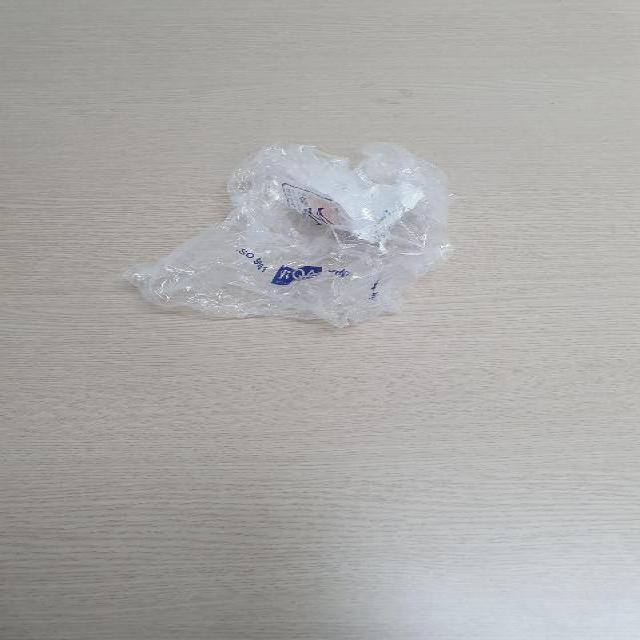plastic bag: (124, 138, 460, 334)
